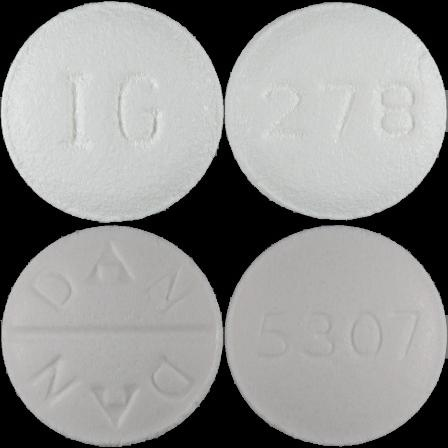61919-190: (0, 0, 224, 224)
